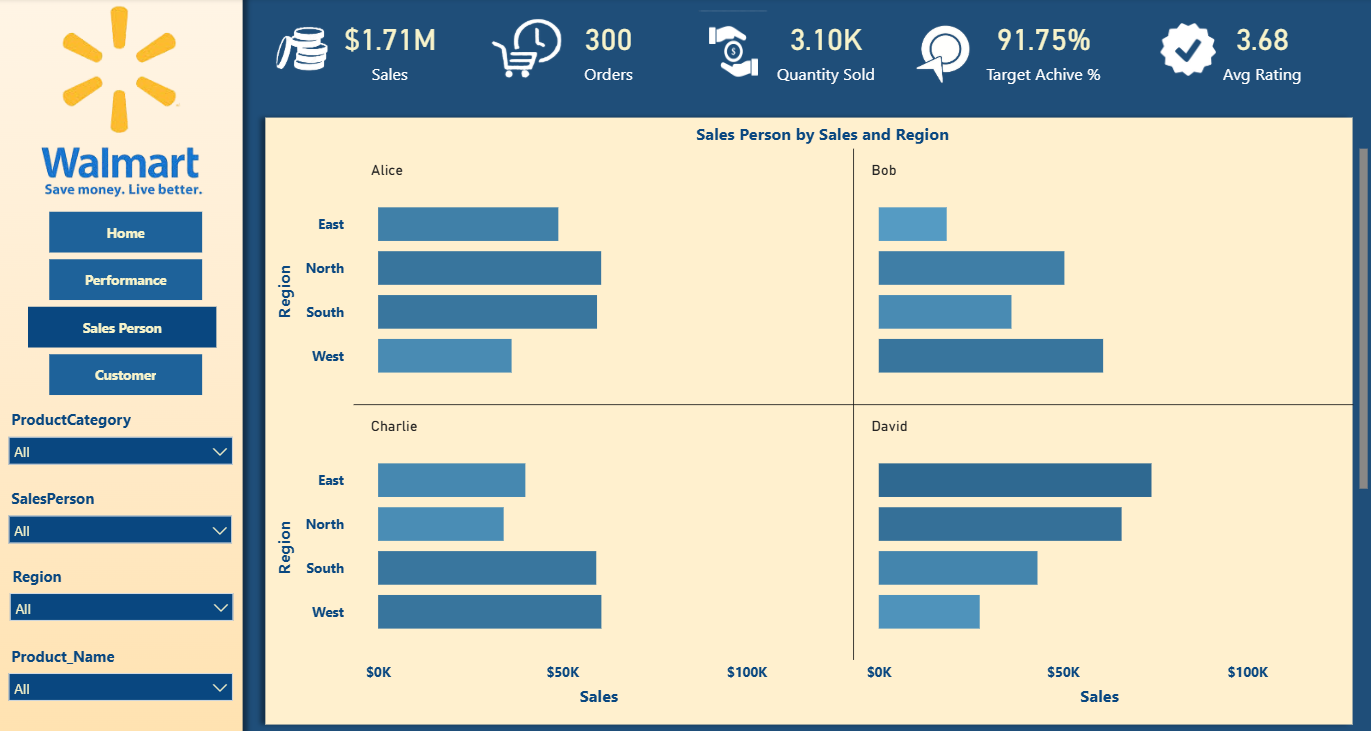

This screenshot's page, from the dashboard's own definition file:
{"tool":"powerbi","page":{"name":"Sales Person","canvas":[1350,720],"ordinal":2},"visuals":[{"type":"barChart","title":"Sales Person by Sales and Region","fields":{"Y":["Sum(SalesTable.Revenue)"],"Rows":["SalesPersonTable.SalesPerson"],"Category":["SalesTable.Region"]},"box":[269,121.9,1081,579.1],"z":0},{"type":"actionButton","box":[50,210,150,40],"z":5000},{"type":"actionButton","box":[50,256.7,150,40],"z":6000},{"type":"actionButton","box":[30,303.3,185,40],"z":7000},{"type":"actionButton","box":[50,350,150,40],"z":8000},{"type":"card","fields":{"Values":["Sum(SalesTable.Revenue)"]},"box":[284.7,0,200.2,99.5],"z":9000},{"type":"card","fields":{"Values":["Count(SalesTable.Sale_ID)"]},"box":[498.7,0,200,100],"z":10000},{"type":"card","fields":{"Values":["Sum(SalesTable.Units_Sold)"]},"box":[712.4,0,200,100],"z":11000},{"type":"card","fields":{"Values":["SalesTable.Target Achive %"]},"box":[926.2,0,200,100],"z":12000},{"type":"card","fields":{"Values":["Avg(SalesTable.Feedback_Score)"]},"box":[1140,0,200.2,99.5],"z":13000},{"type":"image","box":[260.6,7.2,76,84.5],"z":14000},{"type":"image","box":[485,16.9,68.8,63.9],"z":15000},{"type":"image","box":[686.5,12.1,70,79.6],"z":16000},{"type":"image","box":[889.1,18.1,76,73.6],"z":17000},{"type":"image","box":[1140.1,24.1,54.3,51.9],"z":18000},{"type":"image","box":[1.2,0,240.1,209.9],"z":18001},{"type":"slicer","fields":{"Values":["CategoryTable.ProductCategory"]},"box":[0,399.1,240,69.6],"z":18002},{"type":"slicer","fields":{"Values":["SalesPersonTable.SalesPerson"]},"box":[0,475.7,240,69.6],"z":18003},{"type":"slicer","fields":{"Values":["SalesTable.Region"]},"box":[1.2,552.2,240,70.9],"z":18004},{"type":"slicer","fields":{"Values":["SalesTable.Product_Name"]},"box":[0,630,240,70],"z":18005}]}

Visuals, with their boxes in screenshot pixels (x1, y1, x2, y2), scaled from the page's 1350x720 canvas onto the 1371x731 screenshot:
"Sales Person by Sales and Region" barChart: [x1=273, y1=124, x2=1370, y2=712]
actionButton: [x1=51, y1=213, x2=203, y2=254]
actionButton: [x1=51, y1=261, x2=203, y2=301]
actionButton: [x1=30, y1=308, x2=218, y2=349]
actionButton: [x1=51, y1=355, x2=203, y2=396]
card - Sum(SalesTable.Revenue): [x1=289, y1=0, x2=492, y2=101]
card - Count(SalesTable.Sale_ID): [x1=506, y1=0, x2=710, y2=102]
card - Sum(SalesTable.Units_Sold): [x1=723, y1=0, x2=927, y2=102]
card - SalesTable.Target Achive %: [x1=941, y1=0, x2=1144, y2=102]
card - Avg(SalesTable.Feedback_Score): [x1=1158, y1=0, x2=1361, y2=101]
image: [x1=265, y1=7, x2=342, y2=93]
image: [x1=493, y1=17, x2=562, y2=82]
image: [x1=697, y1=12, x2=768, y2=93]
image: [x1=903, y1=18, x2=980, y2=93]
image: [x1=1158, y1=24, x2=1213, y2=77]
image: [x1=1, y1=0, x2=245, y2=213]
slicer - CategoryTable.ProductCategory: [x1=0, y1=405, x2=244, y2=476]
slicer - SalesPersonTable.SalesPerson: [x1=0, y1=483, x2=244, y2=554]
slicer - SalesTable.Region: [x1=1, y1=561, x2=245, y2=633]
slicer - SalesTable.Product_Name: [x1=0, y1=640, x2=244, y2=711]
